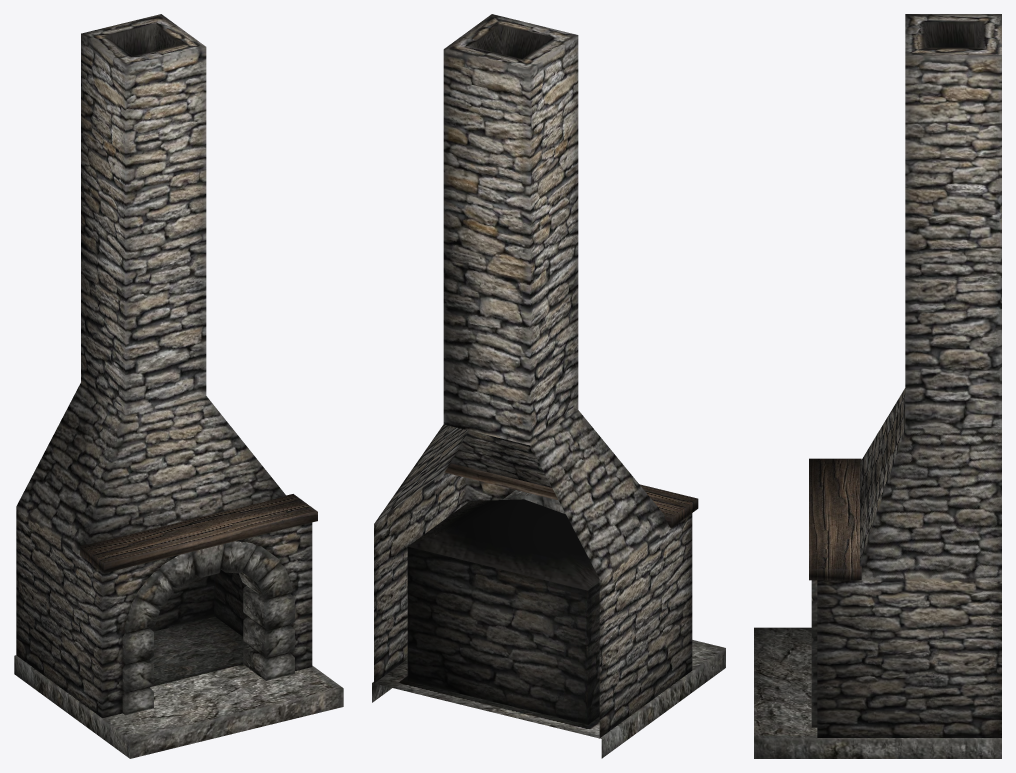
The model's file is Tv_Fireplace.glb.
The picture shows the model from 3 angles, left to right: view 1: azimuth 30°, elevation 25°; view 2: azimuth 150°, elevation 25°; view 3: azimuth 270°, elevation 25°; orthographic projection. The views are drawn at different scales.
Visible parts, largest first — view 1: fireplace_2; view 2: fireplace_2; view 3: fireplace_2.
Part boxes in pixels (x1,y1,x2,y2): fireplace_2: (14, 14, 343, 758); fireplace_2: (372, 14, 725, 758); fireplace_2: (754, 14, 1001, 758).
Bounding box in the file's own units: 1.36 × 3.8 × 1.28.
Materials: 1 (1 with a texture image).
